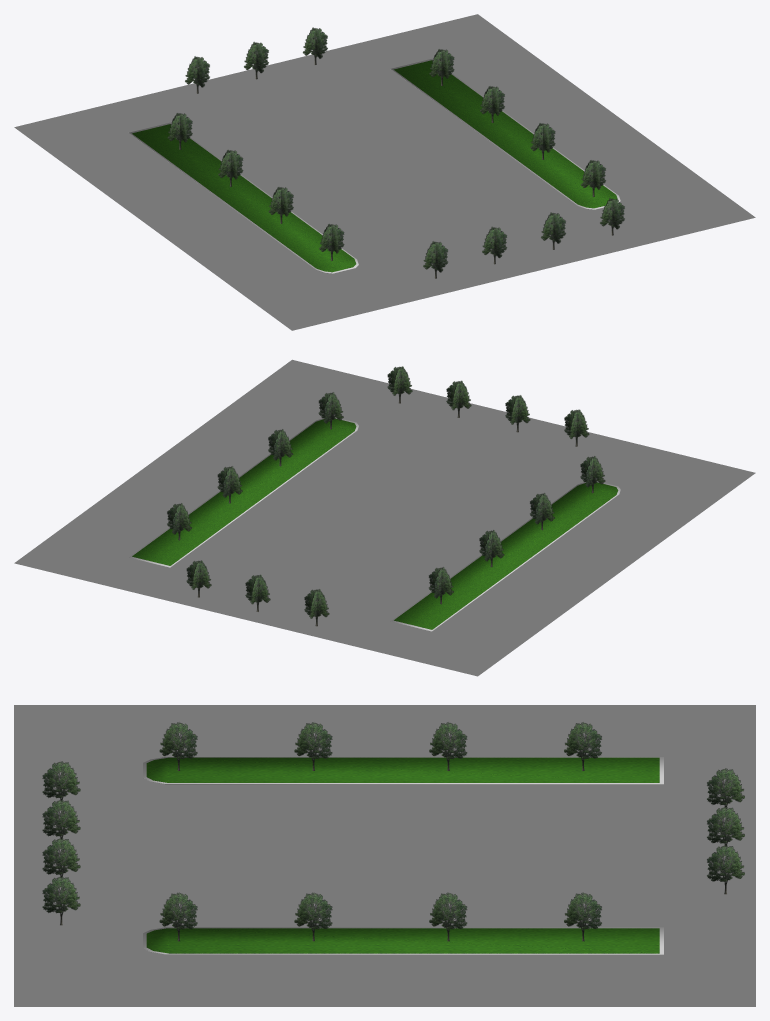
Rendered from cwb_0f_mini.gltf.
The picture shows the model from 3 angles, top to bottom: view 1: azimuth 30°, elevation 25°; view 2: azimuth 150°, elevation 25°; view 3: azimuth 270°, elevation 25°; orthographic projection. The views are drawn at different scales.
Visible parts, largest first — view 1: dimian_3, dimian_4, dimian_13, dimian_8, dimian_14; view 2: dimian_3, dimian_13, dimian_4, dimian_14, dimian_8; view 3: dimian_3, dimian_13, dimian_4, dimian_14, dimian_8, dimian_9, dimian_16, dimian_18, dimian_24, dimian_26, dimian_6, dimian_31 (+8 smaller).
Part boxes in pixels (<box>): dimian_3: <box>14,14,755,330</box>; dimian_4: <box>132,124,356,272</box>; dimian_13: <box>393,60,617,208</box>; dimian_8: <box>129,122,358,273</box>; dimian_14: <box>391,59,620,209</box>; dimian_3: <box>14,359,755,676</box>; dimian_13: <box>132,418,356,565</box>; dimian_4: <box>394,482,618,629</box>; dimian_14: <box>129,417,358,567</box>; dimian_8: <box>390,481,620,631</box>; dimian_3: <box>14,705,755,1006</box>; dimian_13: <box>146,928,659,953</box>; dimian_4: <box>146,757,659,782</box>; dimian_14: <box>143,927,663,954</box>; dimian_8: <box>143,757,663,784</box>; dimian_9: <box>42,876,80,925</box>; dimian_16: <box>294,892,332,941</box>; dimian_18: <box>429,892,467,941</box>; dimian_24: <box>294,722,332,770</box>; dimian_26: <box>429,722,467,770</box>; dimian_6: <box>159,892,197,941</box>; dimian_31: <box>707,845,744,894</box>.
Bounding box in the file's own units: 250 × 20.64 × 259.
Materials: 4 (2 with a texture image).
